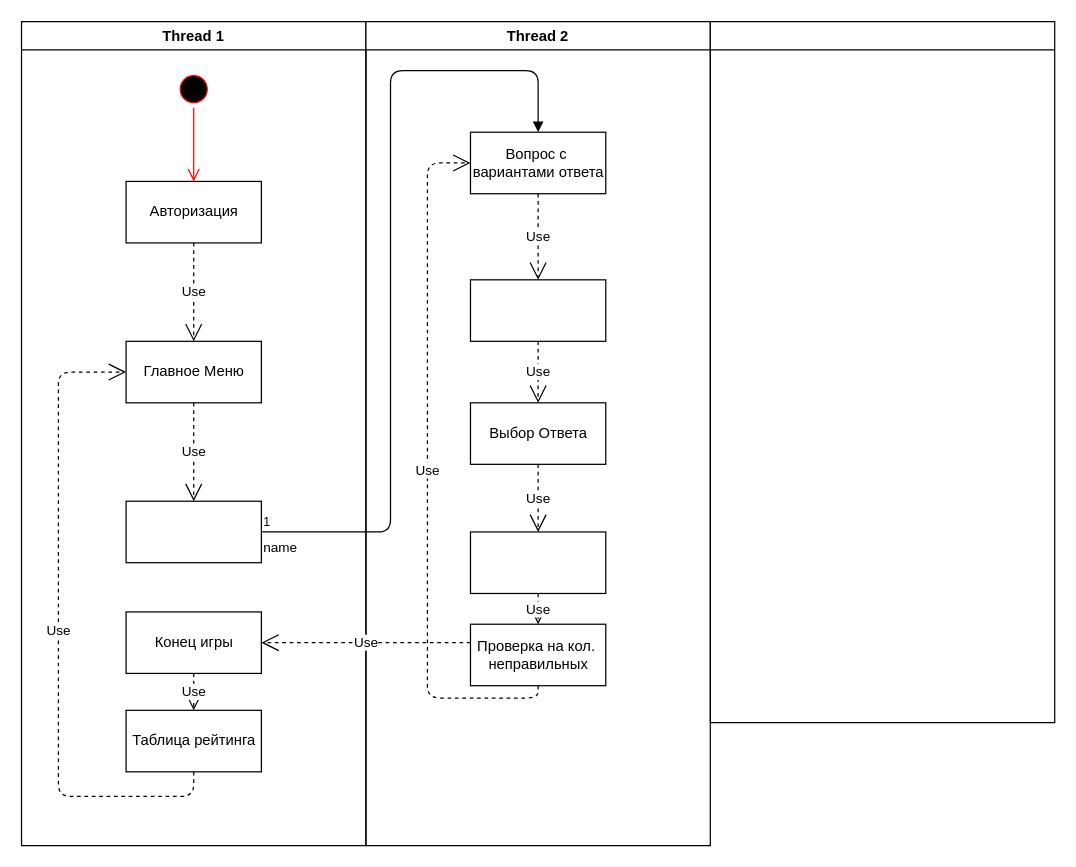
Image size: 1076x867. Some labels were removed from this diagram. The centre of each missing label's shape, as x and y in pixels:
Thread 3: the point at 882,371
Возможность показать подсказку: the point at 537,310
Начать игру: the point at 193,531
Пересчет очков: the point at 537,562
